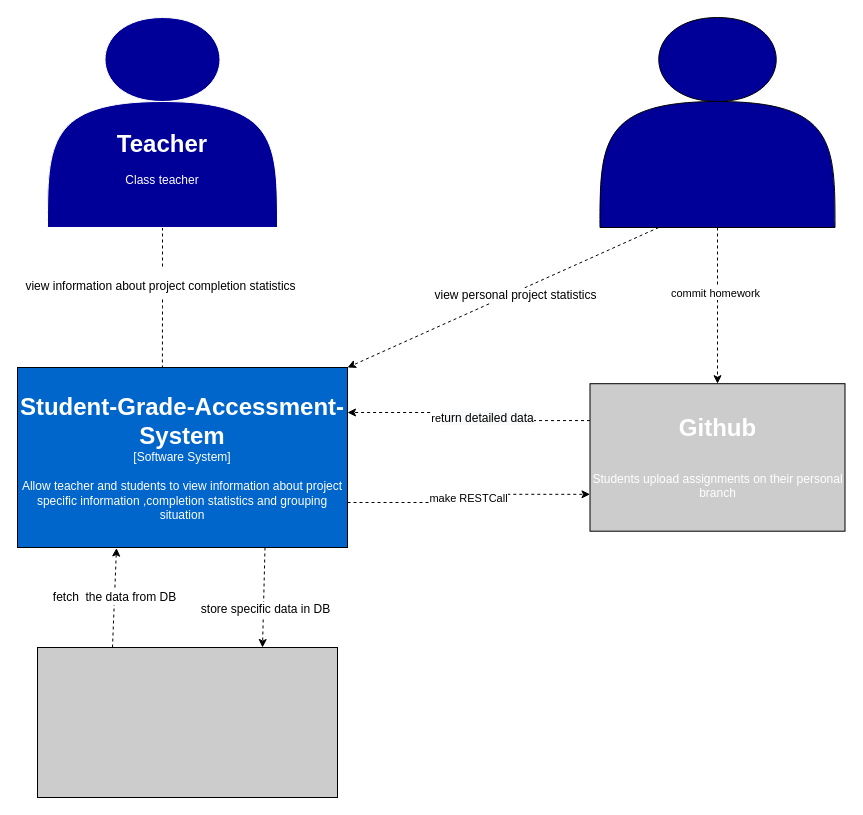
This 863x815 diagram has some shape labels left out. Each missing label, with the centre of its shape:
"Database Pack the data and store it in Database" belongs at point (187, 722).
"Student A student of the class, with personal github account" belongs at point (717, 122).
